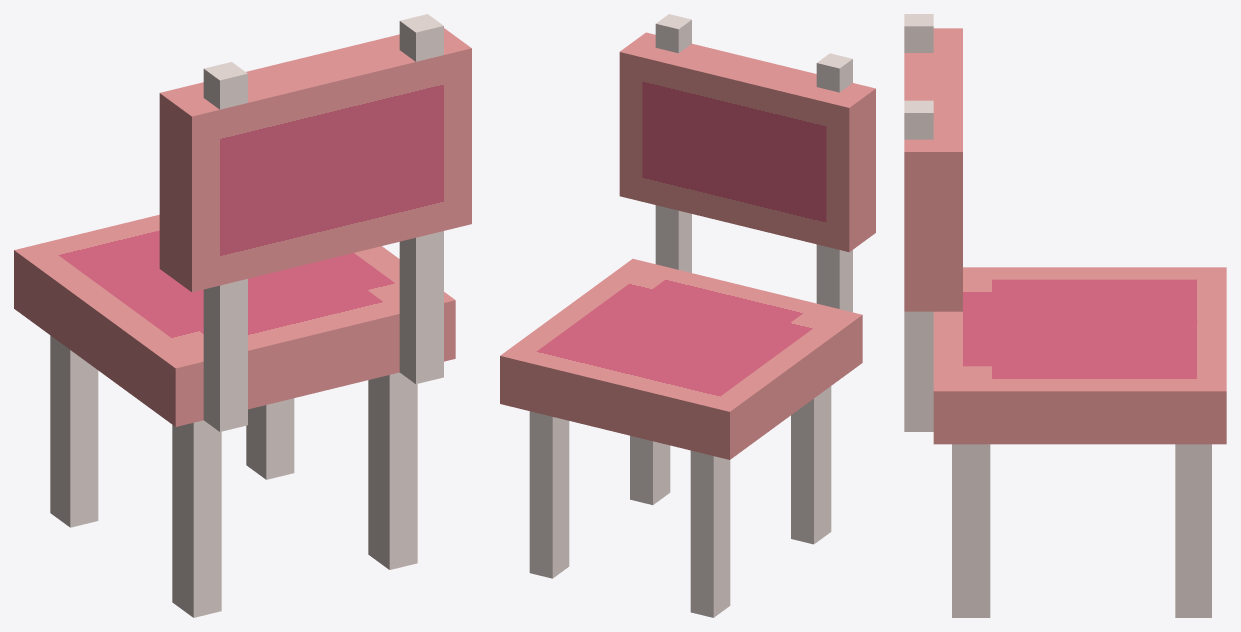
File: chair_pro.gltf
3 views of the same model, side by side, from view 1: azimuth 30°, elevation 25°; view 2: azimuth 150°, elevation 25°; view 3: azimuth 270°, elevation 25° (orthographic). The views are drawn at different scales.
Parts seen in each view (by area): view 1: cuboid; view 2: cuboid; view 3: cuboid.
Part boxes in pixels (box(x1,y1,x2,y2)): cuboid: box(14, 14, 471, 617); cuboid: box(500, 14, 875, 617); cuboid: box(904, 14, 1226, 617).
Size of the model in its own units: 0.625 by 1.19 by 0.6875.
Materials: 1 (1 with a texture image).
